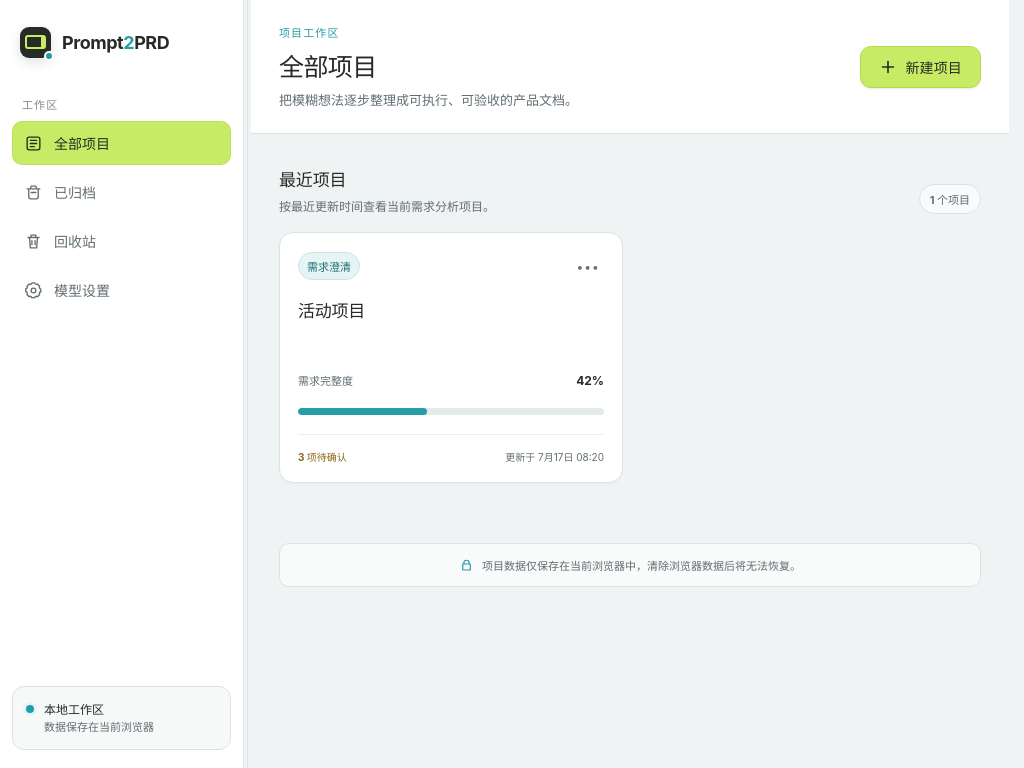
Test: ProjectHomeView › filters real summaries and renders project-card metadata
Click the button "已归档": (122, 192) [12,170,231,214]
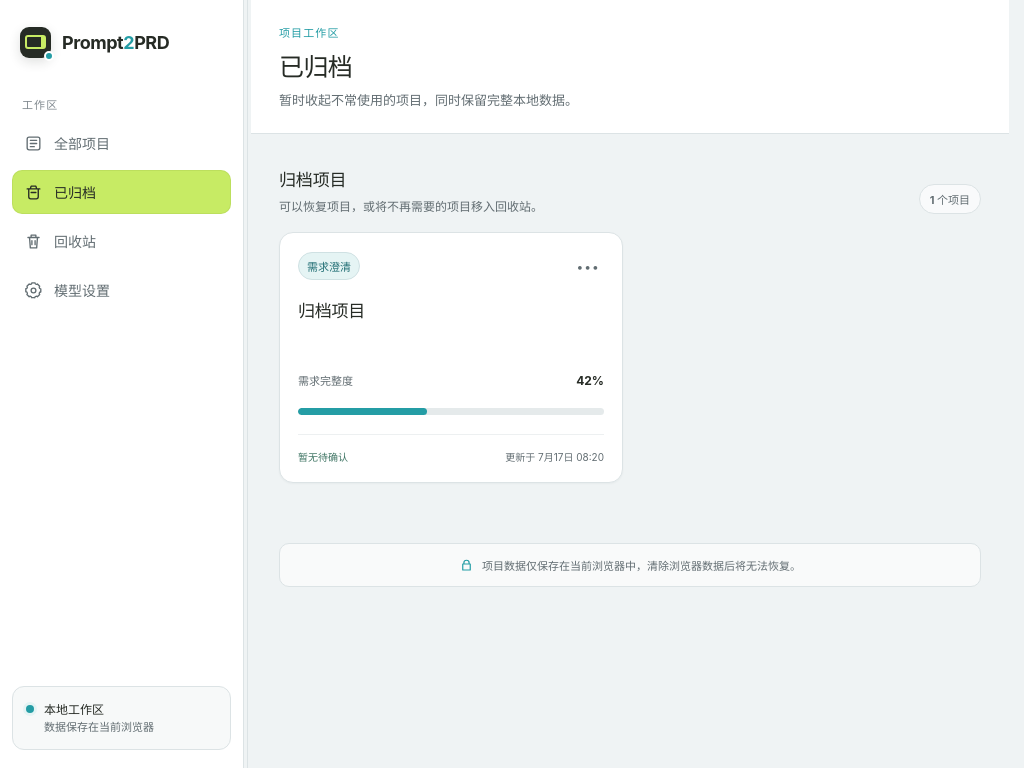
Check: the text "归档项目" is shown, box [279,170,346,190]
Check: the text "活动项目" is gone
Click the button "回收站": (122, 241) [12,219,231,263]
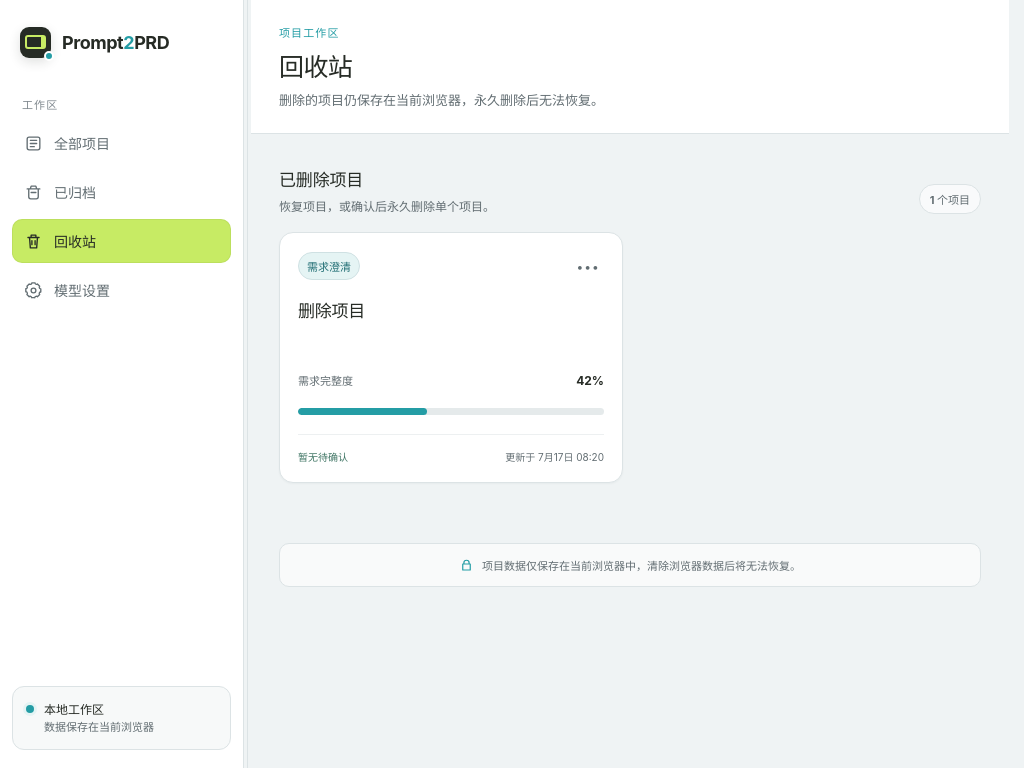
Check: the text "删除项目" is shown, box [279,170,363,190]
Check: the text "归档项目" is gone
